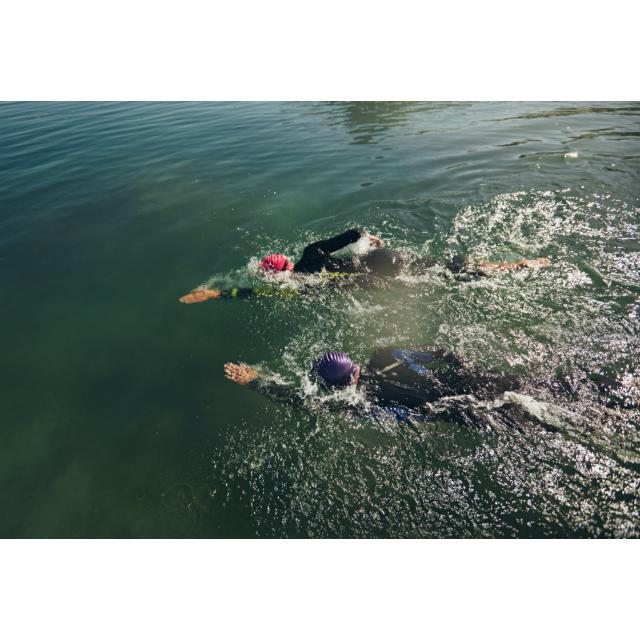human: (221, 336, 572, 432), (174, 223, 553, 307)
